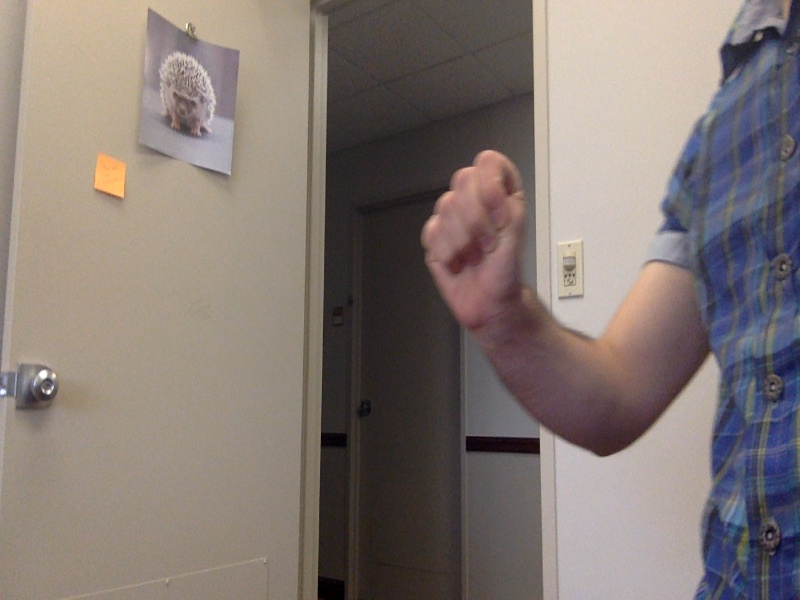0-hand: (413, 151, 527, 333)
